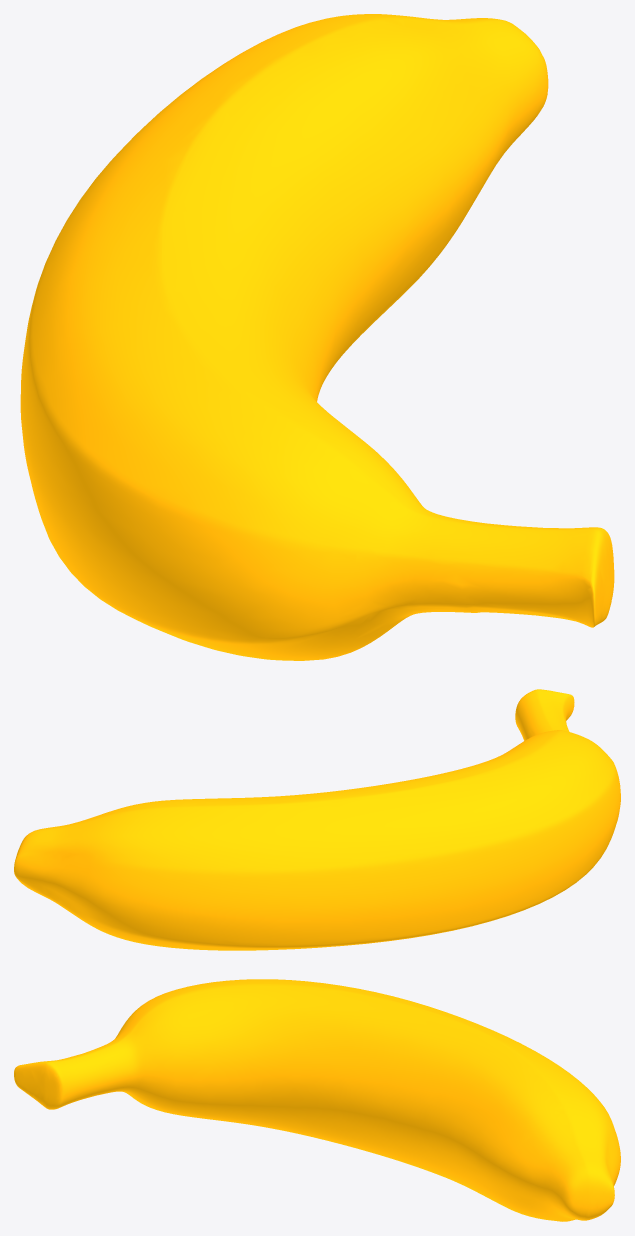
Rendered from banana-opt.glb.
3 renders of one model, top to bottom at view 1: azimuth 30°, elevation 25°; view 2: azimuth 150°, elevation 25°; view 3: azimuth 270°, elevation 25°, orthographic. The views are drawn at different scales.
Visible parts, largest first — view 1: Object_2; view 2: Object_2; view 3: Object_2.
Boxes of the visible parts, bbox=[...] form: Object_2: bbox=[20, 14, 614, 660]; Object_2: bbox=[14, 689, 620, 950]; Object_2: bbox=[14, 979, 620, 1221].
Size of the model in its own units: 0.7723 by 0.276 by 1.04.
